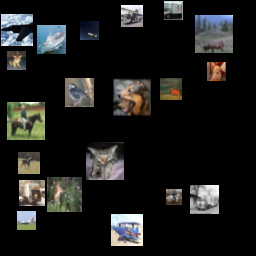airplane: (155, 69, 177, 91)
automobile: (199, 12, 234, 47), (64, 87, 96, 119)
bird: (24, 144, 53, 173), (41, 62, 57, 78)
cat: (111, 27, 149, 65), (17, 111, 49, 143), (118, 78, 147, 107), (35, 177, 54, 196)
deer: (30, 32, 56, 58), (173, 209, 195, 231)
dog: (128, 158, 163, 193)
frog: (73, 12, 105, 44)
ship: (123, 204, 158, 239), (82, 170, 111, 199), (201, 199, 223, 221), (132, 2, 151, 21), (201, 120, 220, 139)
